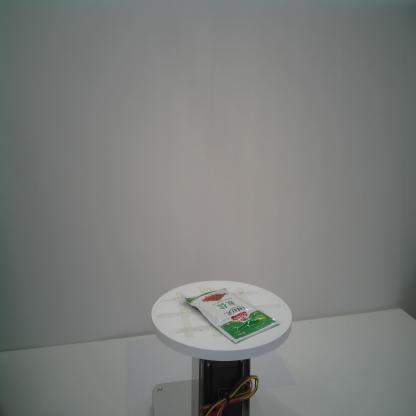Seasoner: (182, 287, 279, 345)
